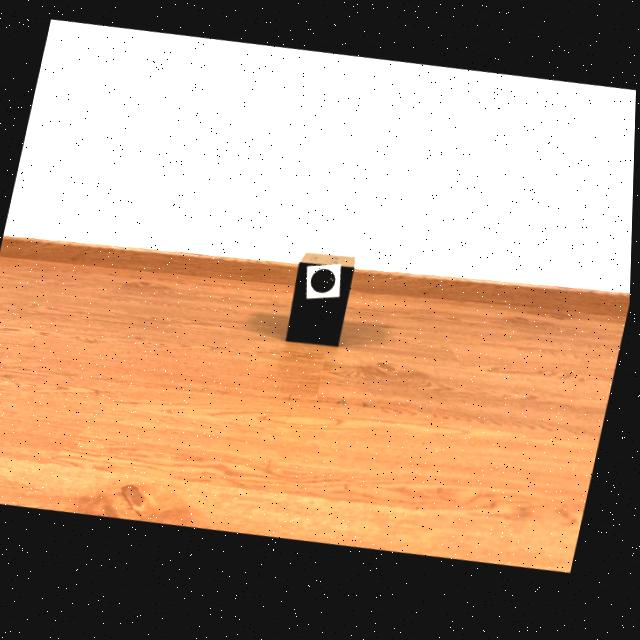CIRCLE: (312, 274, 337, 298)
